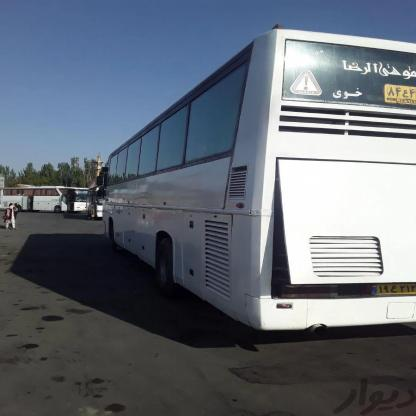Bus: (89, 20, 416, 319), (0, 179, 95, 212)
